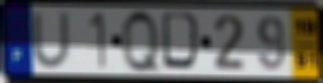1: (88, 10, 108, 72)
2: (211, 12, 248, 73)
9: (254, 14, 287, 74)
D: (160, 10, 205, 74)
Q: (119, 7, 164, 77)
U: (30, 10, 73, 70)
